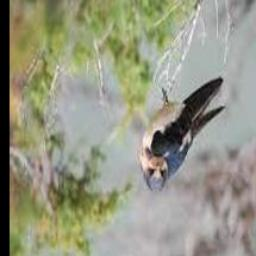Swallow: (141, 80, 226, 194)
